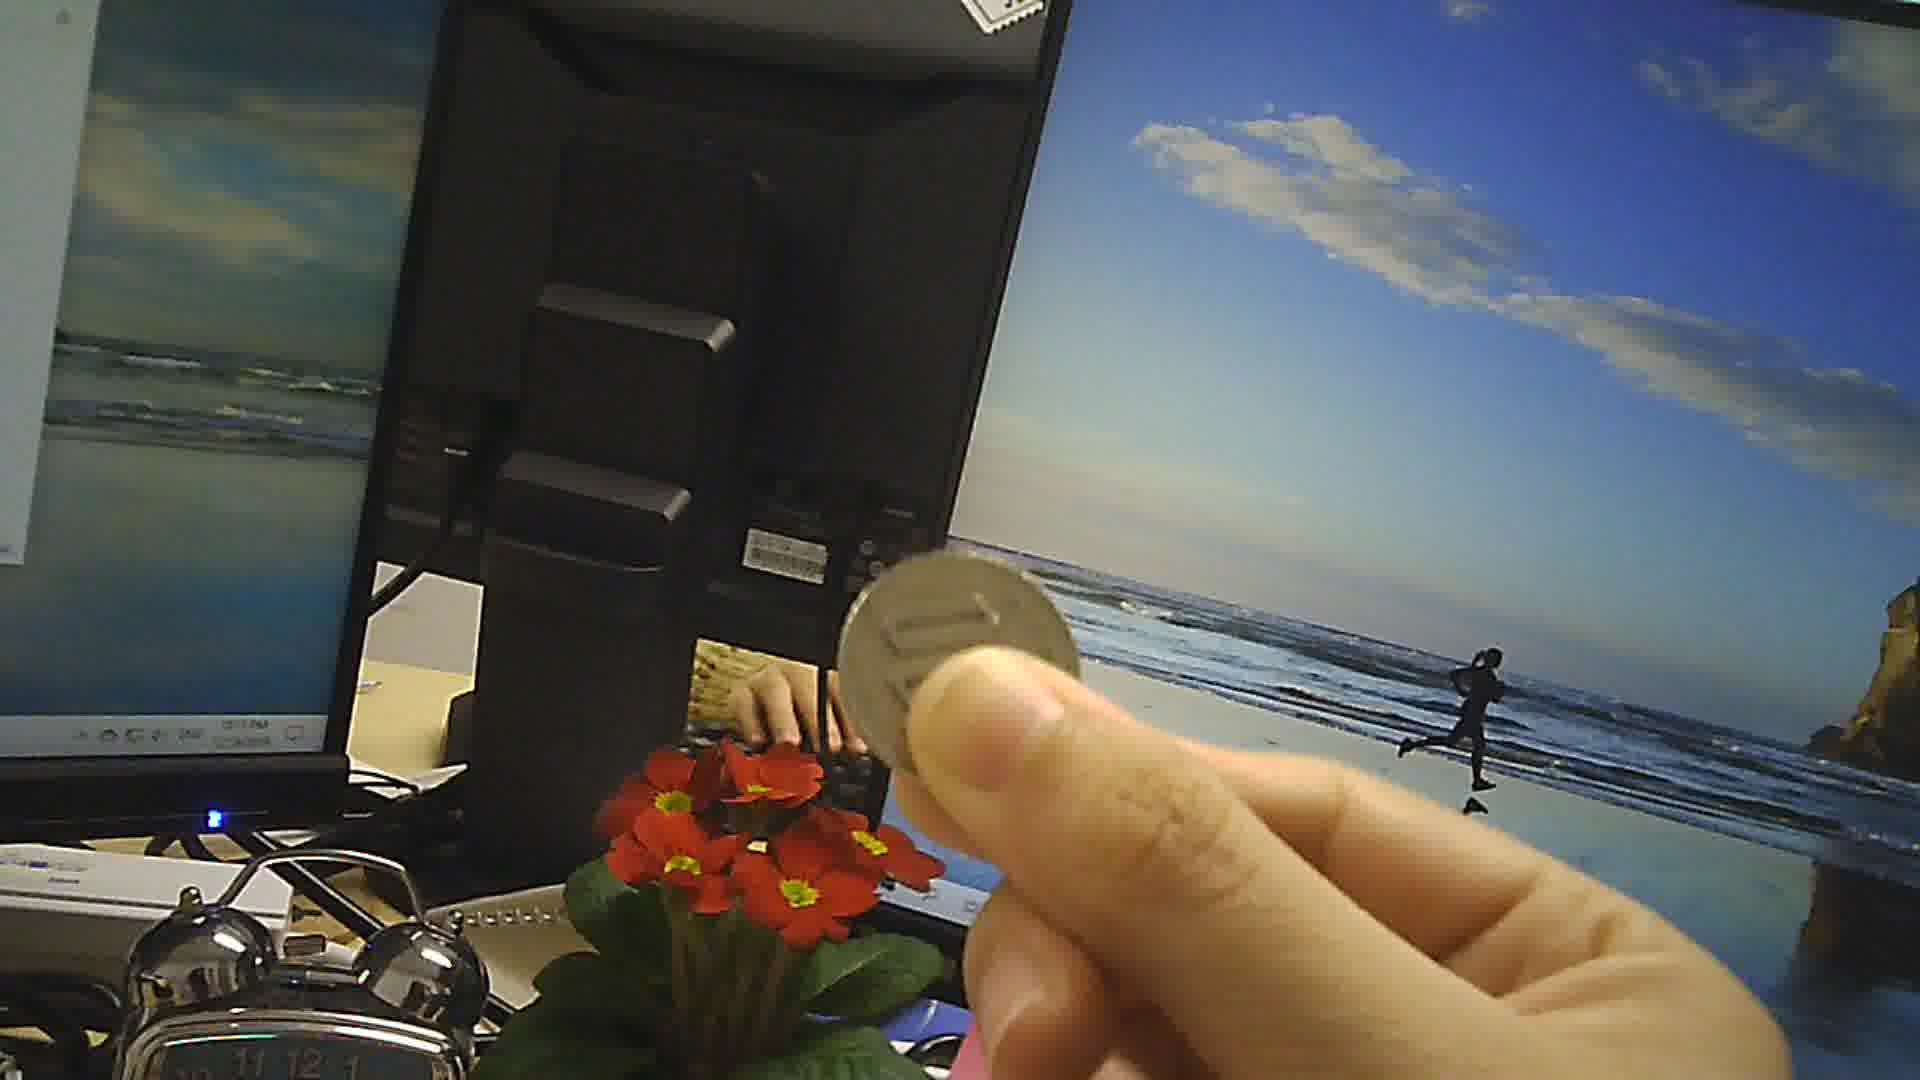100 Yen: (839, 545, 1085, 754)
